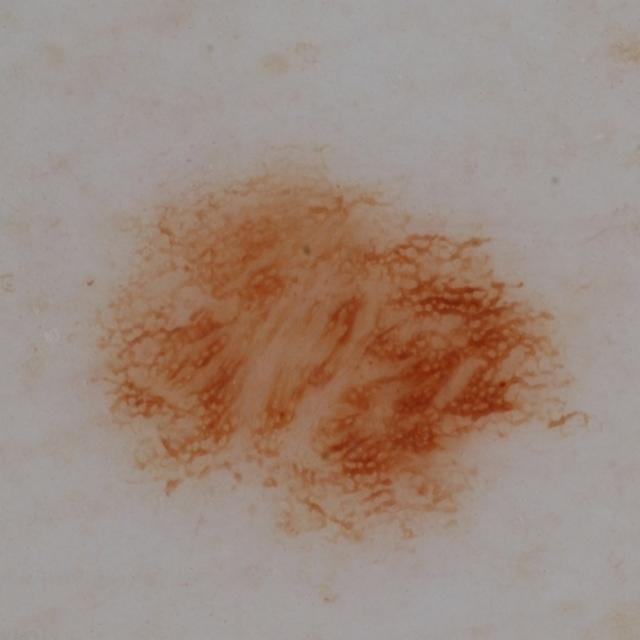Skin-Cancer Nevus: (79, 66, 587, 640)
